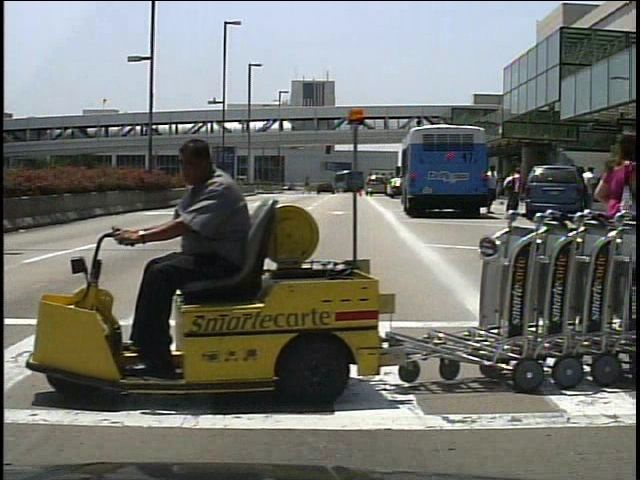person: (136, 136, 258, 375), (593, 119, 637, 350), (481, 163, 502, 216), (580, 165, 601, 214), (505, 165, 524, 218)
